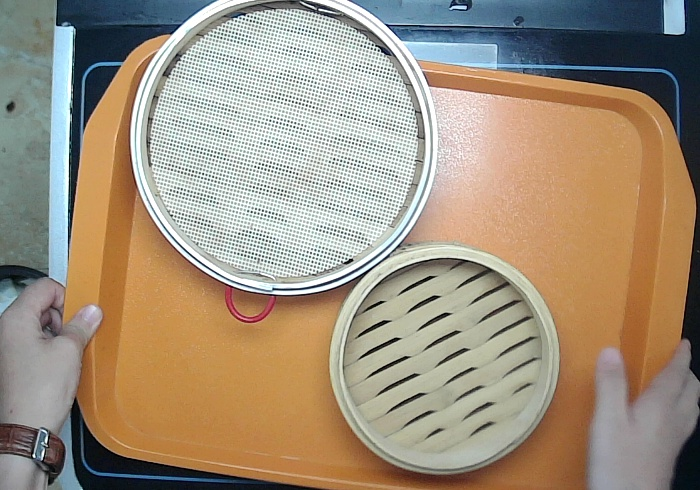ZNLD-Da_Zheng_Long: (127, 1, 439, 325)
ZNLD-Xiao_Zheng_Long: (327, 241, 562, 475)
